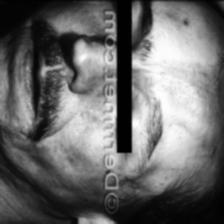Unclassified: (62, 140, 84, 170), (92, 98, 106, 122)
